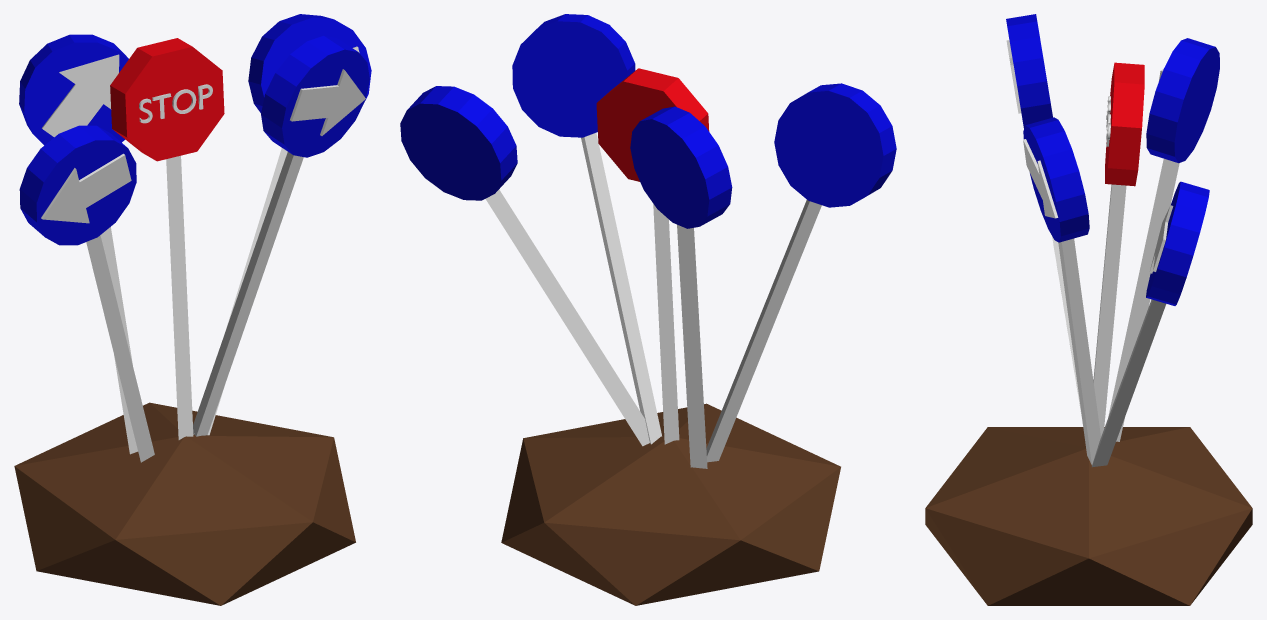
The model's file is Borden.glb.
3 renders of one model, left to right at view 1: azimuth 30°, elevation 25°; view 2: azimuth 150°, elevation 25°; view 3: azimuth 270°, elevation 25°, orthographic.
Parts seen in each view (by area): view 1: Icosphere.005, Cylinder.006, Cylinder.010, Cylinder.008, Cylinder.014, Cylinder.007, Cylinder.005, Cylinder.012, Cylinder.009, Plane.004, Plane.002, Plane.001 (+3 smaller); view 2: Icosphere.005, Cylinder.010, Cylinder.008, Cylinder.012, Cylinder.014, Cylinder.006, Cylinder.007, Cylinder.011, Cylinder.009, Cylinder.013, Cylinder.005; view 3: Icosphere.005, Cylinder.014, Cylinder.008, Cylinder.012, Cylinder.006, Cylinder.007, Cylinder.005, Cylinder.010, Cylinder.013, Cylinder.011, Plane.001, Cylinder.009 (+1 smaller).
Boxes of the visible parts, left/top/right/bottom form: Icosphere.005: left=14, top=402, right=355, bottom=605; Cylinder.006: left=110, top=38, right=224, bottom=161; Cylinder.010: left=19, top=125, right=136, bottom=245; Cylinder.008: left=261, top=35, right=369, bottom=157; Cylinder.014: left=19, top=34, right=128, bottom=145; Cylinder.007: left=193, top=152, right=303, bottom=436; Cylinder.005: left=166, top=155, right=193, bottom=439; Cylinder.012: left=248, top=14, right=371, bottom=112; Cylinder.009: left=86, top=235, right=154, bottom=462; Plane.004: left=42, top=54, right=119, bottom=137; Plane.002: left=41, top=153, right=131, bottom=223; Plane.001: left=290, top=69, right=365, bottom=135; Icosphere.005: left=501, top=403, right=840, bottom=605; Cylinder.010: left=774, top=83, right=896, bottom=207; Cylinder.008: left=512, top=14, right=635, bottom=137; Cylinder.012: left=400, top=86, right=517, bottom=200; Cylinder.014: left=630, top=106, right=732, bottom=228; Cylinder.006: left=596, top=68, right=709, bottom=181; Cylinder.007: left=581, top=133, right=661, bottom=444; Cylinder.011: left=485, top=189, right=657, bottom=446; Cylinder.009: left=706, top=200, right=821, bottom=462; Cylinder.013: left=677, top=224, right=707, bottom=468; Cylinder.005: left=653, top=204, right=679, bottom=444; Icosphere.005: left=925, top=427, right=1252, bottom=605; Cylinder.014: left=1146, top=38, right=1219, bottom=163; Cylinder.008: left=1023, top=117, right=1089, bottom=242; Cylinder.012: left=1146, top=181, right=1209, bottom=305; Cylinder.006: left=1105, top=62, right=1144, bottom=186; Cylinder.007: left=1058, top=238, right=1100, bottom=464; Cylinder.005: left=1093, top=184, right=1126, bottom=436; Cylinder.010: left=1006, top=14, right=1052, bottom=128; Cylinder.013: left=1108, top=158, right=1179, bottom=441; Cylinder.011: left=1092, top=299, right=1166, bottom=467; Plane.001: left=1023, top=139, right=1058, bottom=218; Cylinder.009: left=1052, top=236, right=1082, bottom=421.
Bounding box in the file's own units: 3.94 × 4.72 × 2.71.
